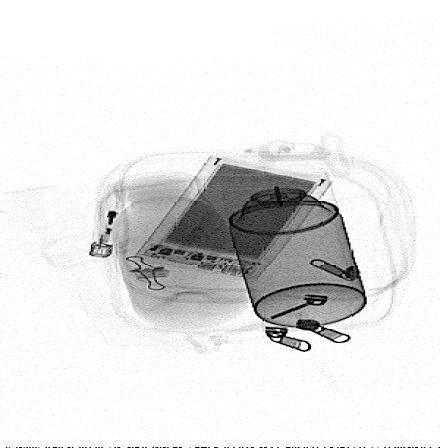Lighter: (89, 183, 129, 259)
Powerbank: (134, 155, 333, 282)
Sprayer: (221, 168, 368, 329)
